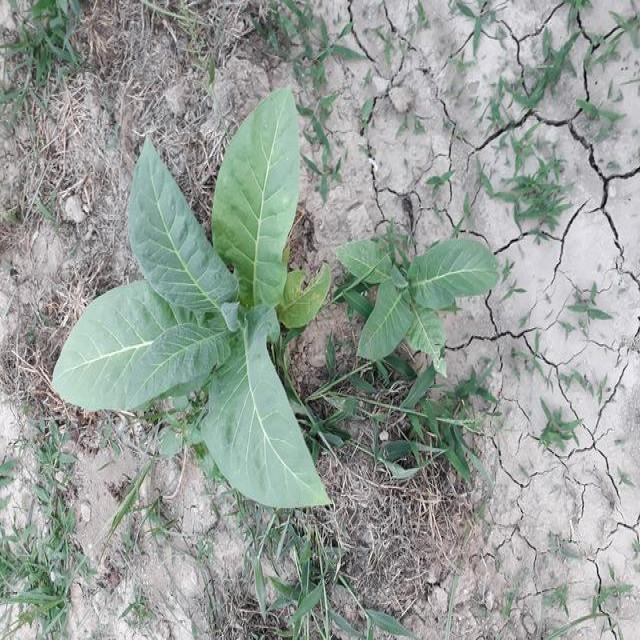crop: (50, 81, 346, 520)
